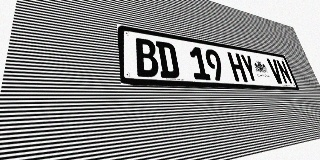1: (188, 46, 211, 80)
9: (204, 48, 226, 81)
B: (134, 37, 160, 78)
D: (155, 41, 180, 79)
H: (227, 52, 248, 82)
N: (275, 59, 293, 84)
V: (266, 58, 285, 84)
Y: (239, 54, 259, 83)
